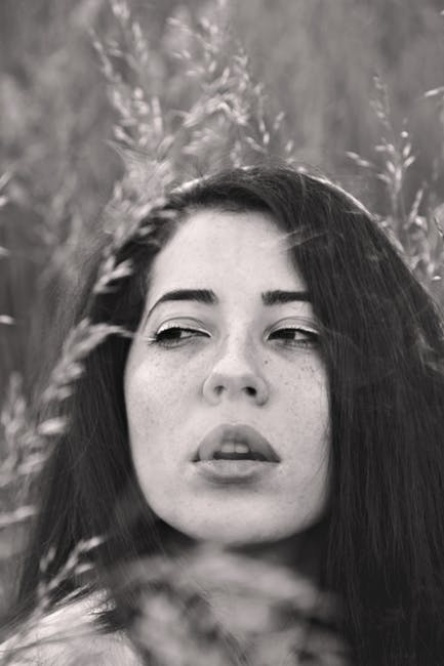face: (126, 206, 341, 538)
